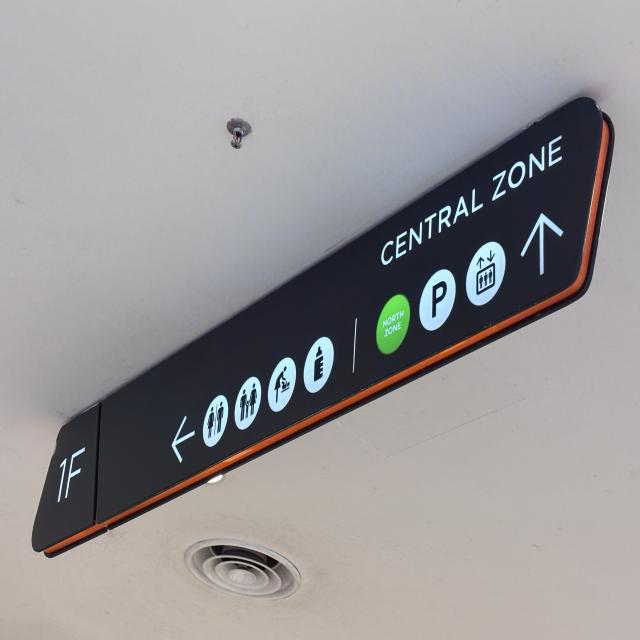lift_icon: (471, 248, 501, 298)
toilet_icon: (204, 398, 226, 441)
